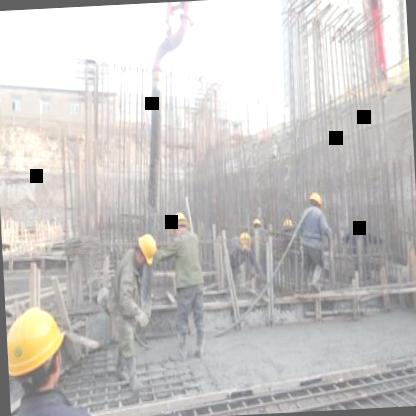helmet: (4, 298, 74, 394), (136, 230, 160, 268), (169, 206, 189, 236), (304, 190, 324, 215), (235, 231, 254, 252)
